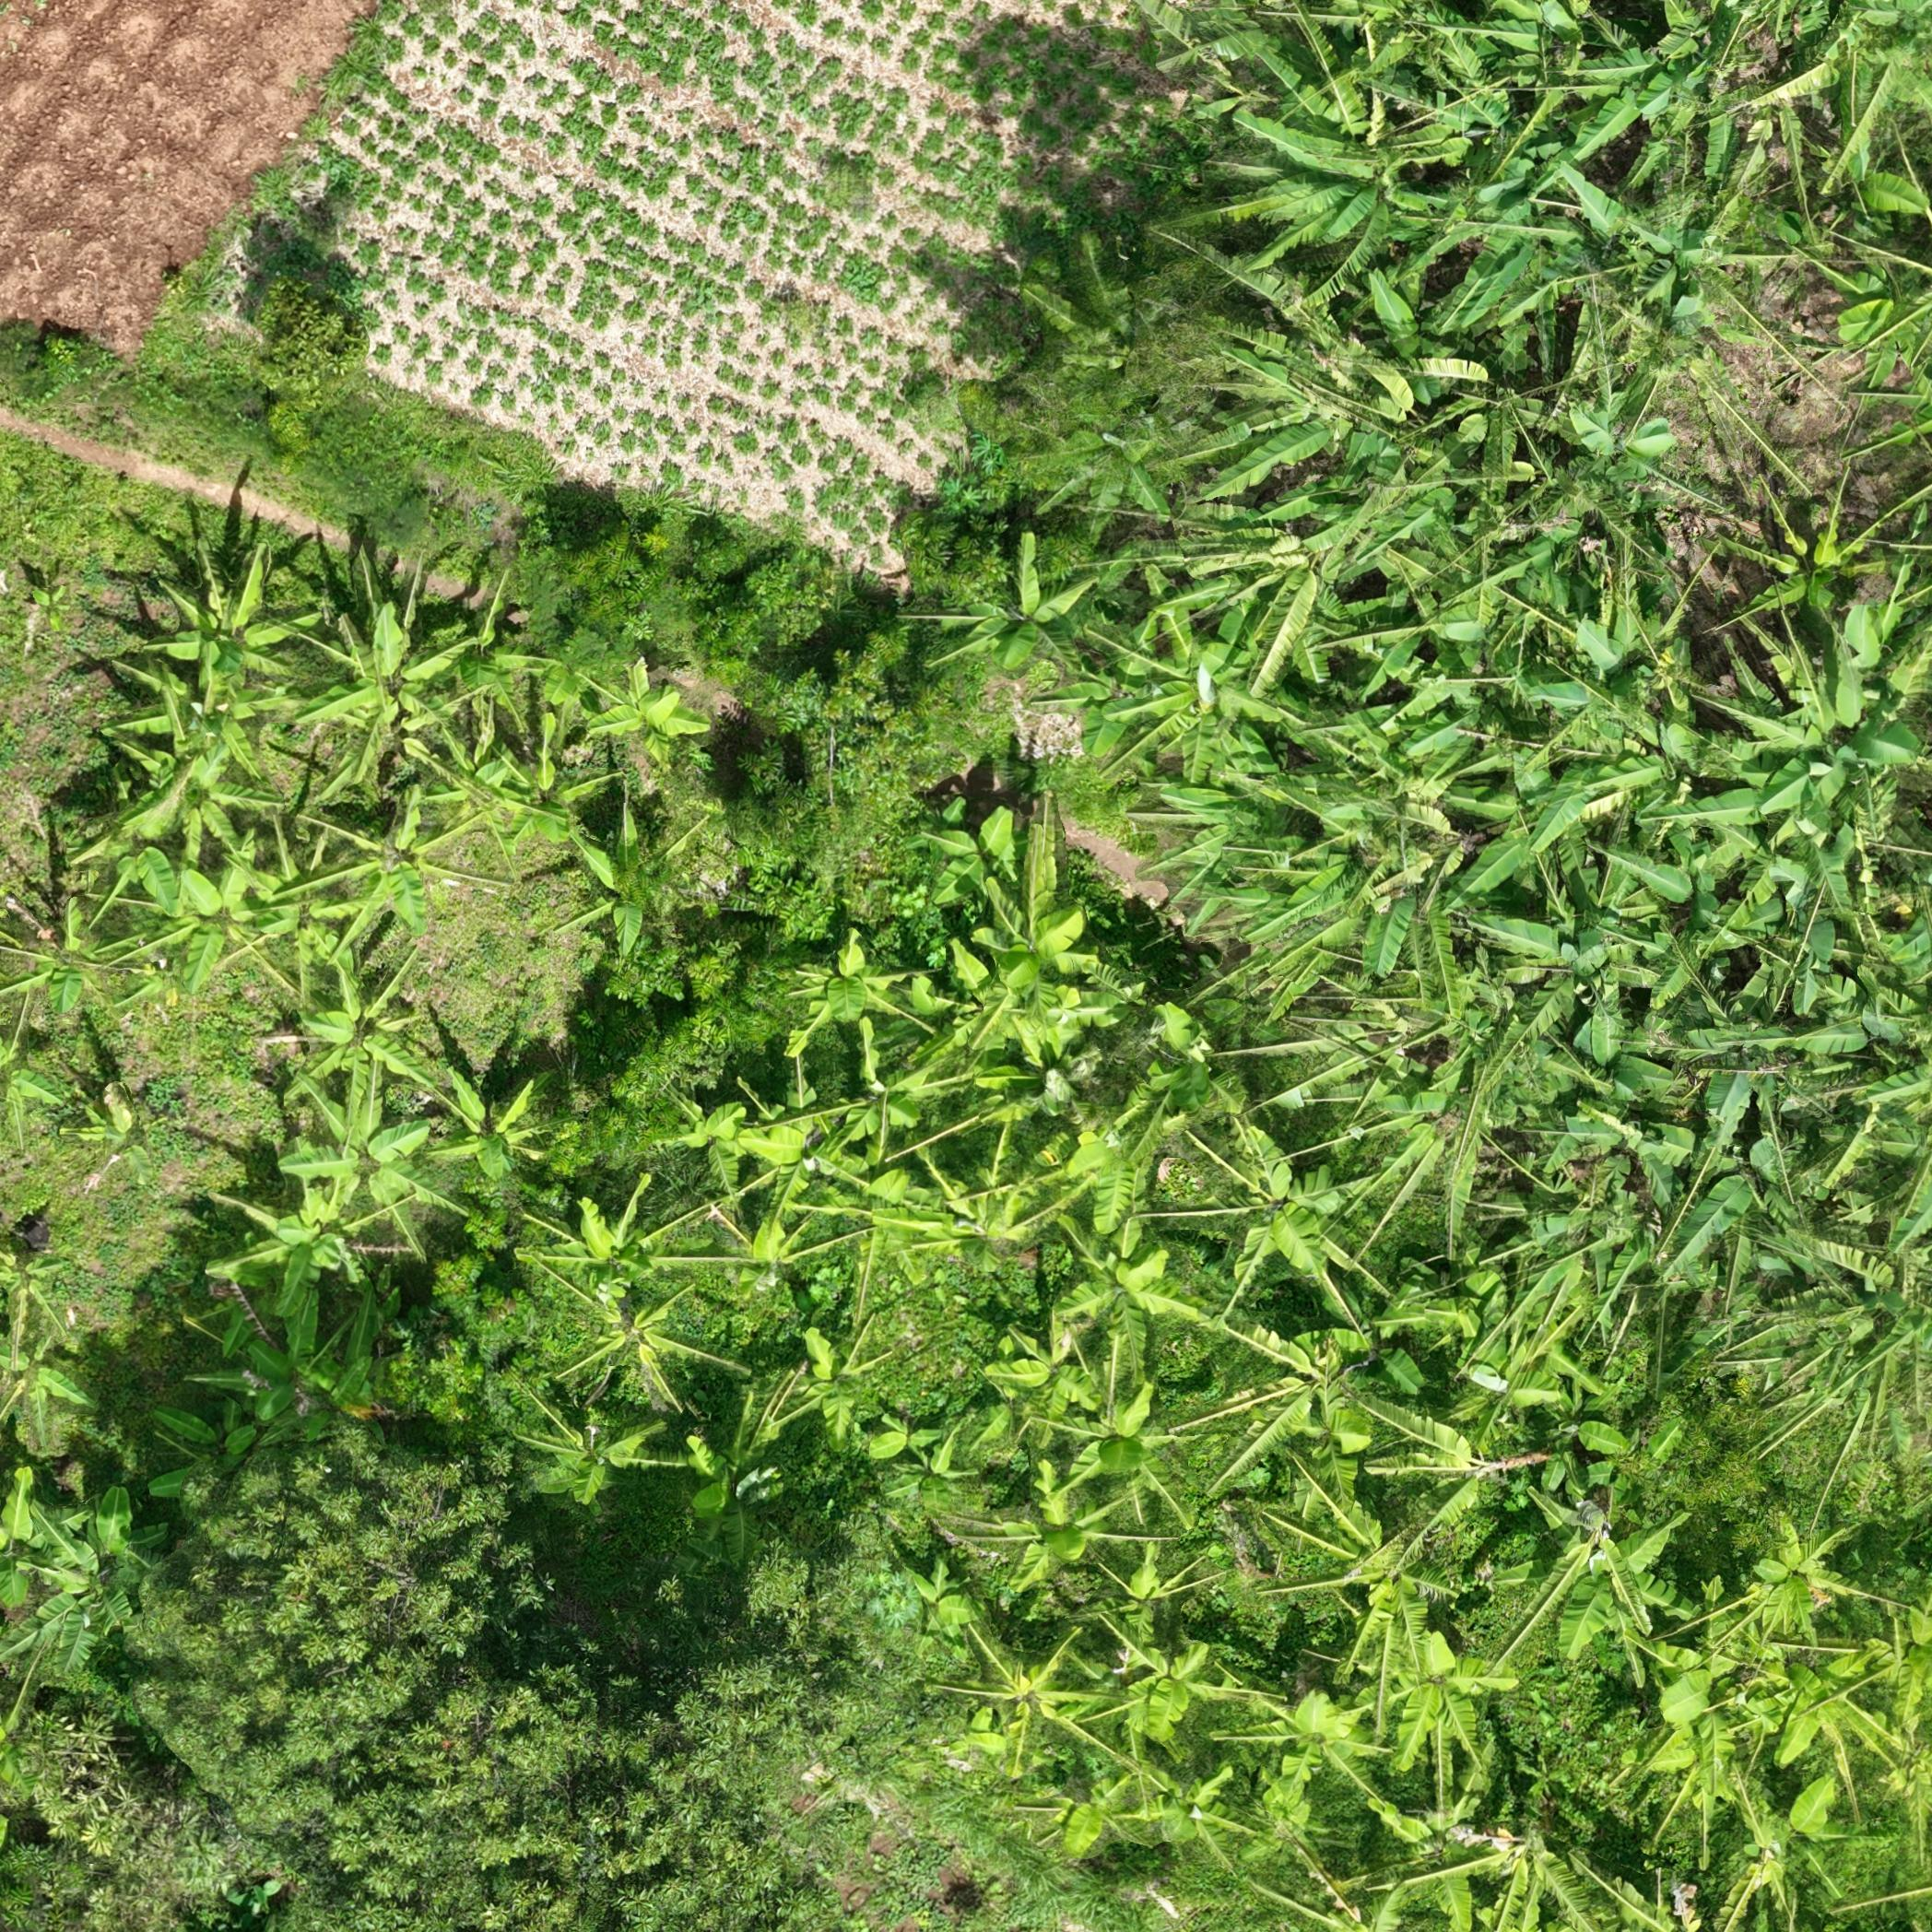Banana: (1260, 58, 1430, 262), (1594, 188, 1767, 380), (1477, 901, 1670, 1063), (1743, 653, 1905, 837), (1131, 619, 1293, 773), (1219, 1132, 1361, 1295), (1253, 1327, 1387, 1495), (1306, 1502, 1451, 1651), (862, 1164, 1051, 1269), (218, 1180, 372, 1304), (211, 1306, 373, 1422), (306, 607, 441, 747), (126, 718, 269, 849), (1552, 1495, 1668, 1651), (136, 833, 271, 968), (301, 1092, 449, 1212), (1361, 1622, 1486, 1764), (30, 1507, 150, 1645), (299, 980, 430, 1100), (1729, 1771, 1838, 1911), (964, 1635, 1090, 1755), (336, 810, 465, 927), (1465, 1789, 1573, 1927), (1753, 1619, 1858, 1755), (166, 582, 294, 692), (975, 881, 1097, 985), (522, 1407, 669, 1491), (433, 1067, 543, 1180), (504, 736, 605, 856), (1109, 1631, 1221, 1739), (984, 570, 1093, 678), (575, 1284, 679, 1398), (678, 1422, 780, 1536), (1000, 1493, 1122, 1587), (764, 1090, 858, 1208), (143, 1398, 255, 1495), (573, 821, 669, 934), (1261, 1684, 1368, 1783), (782, 1322, 879, 1430), (1146, 1005, 1233, 1125), (1385, 1799, 1472, 1920), (550, 1207, 665, 1295), (998, 1320, 1102, 1417), (709, 1212, 826, 1299), (1086, 1394, 1171, 1513), (805, 939, 901, 1037), (603, 667, 708, 755), (428, 757, 518, 855), (1127, 1760, 1228, 1844), (21, 918, 110, 1010), (1766, 1534, 1838, 1637), (931, 814, 1021, 886), (676, 1102, 752, 1187), (1108, 1560, 1178, 1637), (858, 1403, 943, 1461), (30, 591, 73, 626)
